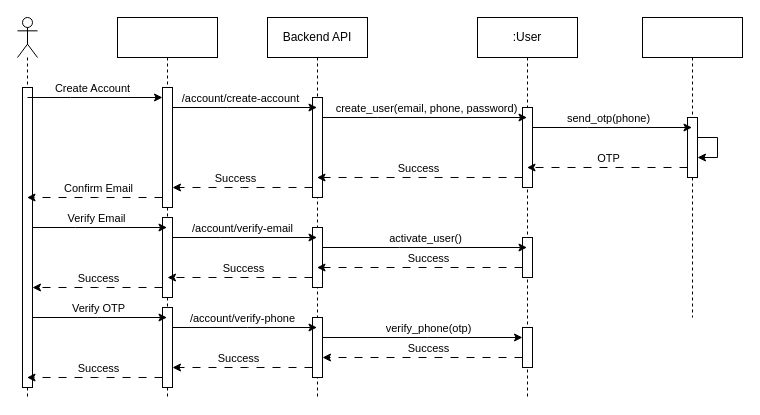
This 760x415 diagram has some shape labels left out. The shapes that lost their labels are listed below. From the top down, each one's centre as x and y in pixels, then its label:
At point (692, 167): "OTP Service".
At point (167, 207): "Web UI".
